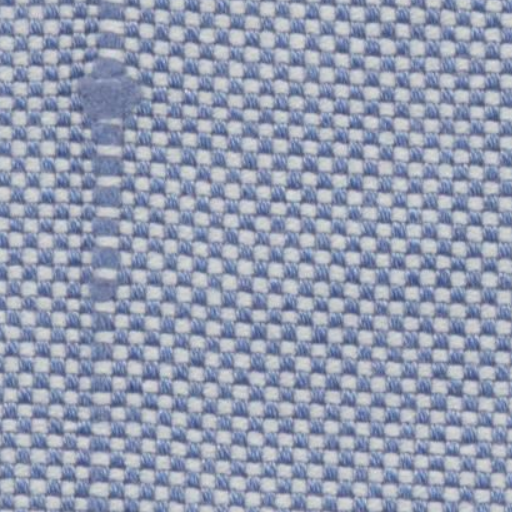DaiSha: (60, 6, 146, 404)
